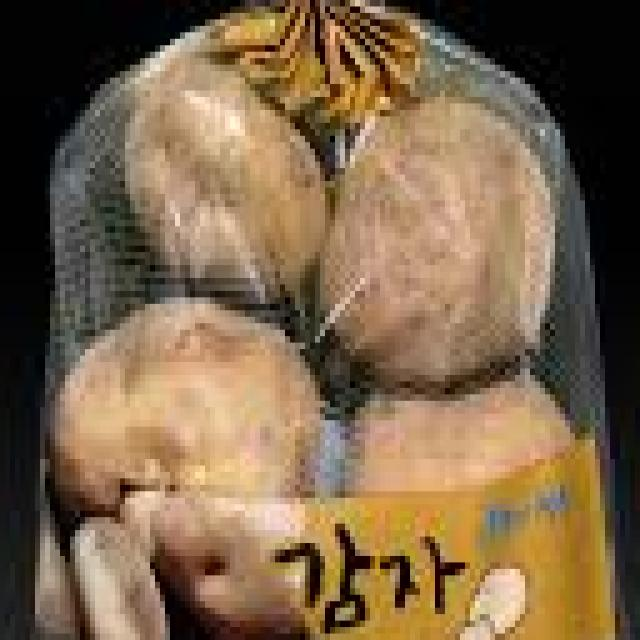potato: (75, 336, 565, 640), (338, 133, 544, 361), (155, 90, 304, 282)
